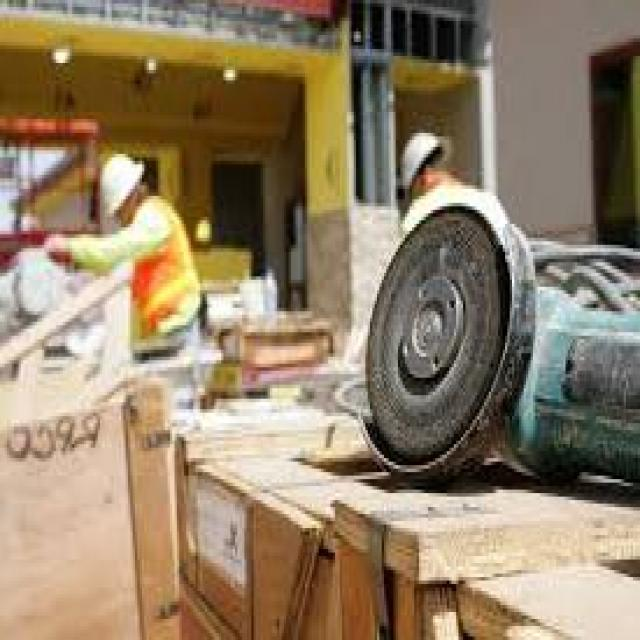Reflective-Jacket: (114, 199, 207, 364)
Safety-Helmet: (88, 140, 152, 224), (396, 122, 452, 186)
